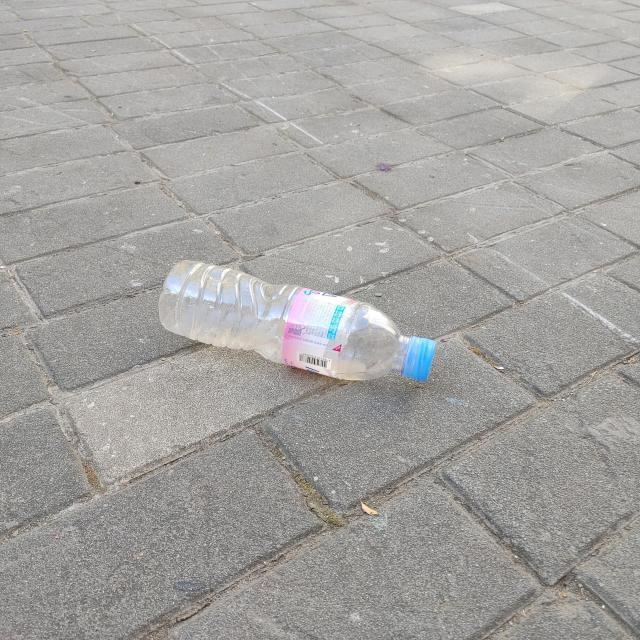plastic: (158, 261, 436, 382)
